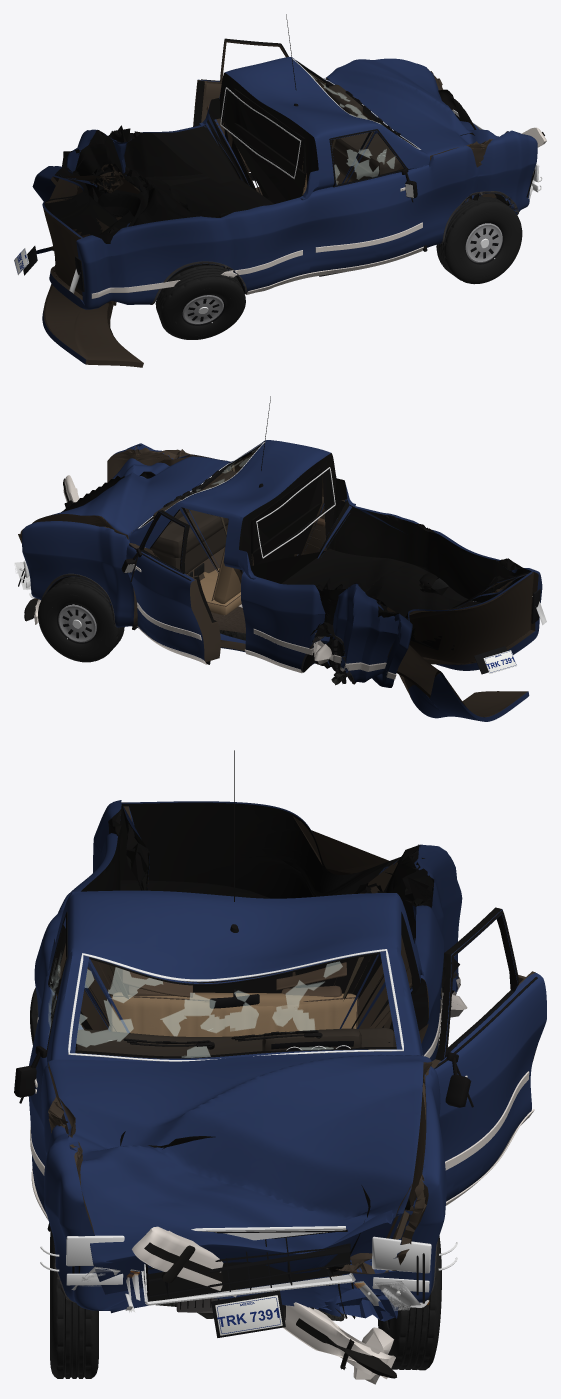
The model's file is pickup87_rear_corner_d3.glb.
3 views of the same model, one above another, from view 1: azimuth 30°, elevation 25°; view 2: azimuth 150°, elevation 25°; view 3: azimuth 270°, elevation 25° (orthographic). The views are drawn at different scales.
Visible parts, largest first — view 1: Body, Hood, Wheel_FR_mesh, Wheel_RR_mesh, Tailgate, Door_FR, Interior, Trim, Trim_FR, Door_FL, Glass, Ends (+1 smaller); view 2: Body, Door_FL, Hood, Wheel_FL_mesh, Interior, Tailgate, Trim, Ends, Trim_FL, Glass, Bumper_F, Door_FR (+1 smaller); view 3: Body, Hood, Interior, Ends, Door_FL, Glass, Bumper_F, Wheel_FR_mesh, Wheel_FL_mesh, Trim_FL, Trim, Door_FR (+1 smaller).
Part boxes in pixels (bbox=[...]): Body: bbox=[32, 57, 537, 309]; Hood: bbox=[325, 58, 499, 197]; Wheel_FR_mesh: bbox=[436, 196, 522, 284]; Wheel_RR_mesh: bbox=[155, 265, 245, 339]; Tailgate: bbox=[36, 217, 143, 367]; Door_FR: bbox=[312, 132, 426, 272]; Interior: bbox=[302, 84, 401, 194]; Trim: bbox=[91, 14, 518, 304]; Trim_FR: bbox=[312, 129, 423, 276]; Door_FL: bbox=[193, 38, 288, 171]; Glass: bbox=[220, 58, 420, 178]; Ends: bbox=[14, 109, 542, 293]; Body: bbox=[18, 440, 542, 687]; Door_FL: bbox=[126, 510, 220, 662]; Hood: bbox=[32, 456, 230, 539]; Wheel_FL_mesh: bbox=[38, 576, 124, 662]; Interior: bbox=[150, 471, 241, 615]; Tailgate: bbox=[396, 645, 529, 721]; Trim: bbox=[41, 396, 476, 684]; Ends: bbox=[15, 560, 546, 674]; Trim_FL: bbox=[121, 511, 210, 664]; Glass: bbox=[138, 442, 335, 558]; Bumper_F: bbox=[24, 475, 79, 624]; Door_FR: bbox=[296, 488, 344, 554]; Body: bbox=[28, 800, 462, 1321]; Hood: bbox=[48, 1054, 432, 1313]; Interior: bbox=[75, 962, 395, 1056]; Ends: bbox=[40, 1226, 457, 1337]; Door_FL: bbox=[431, 907, 546, 1201]; Glass: bbox=[68, 949, 403, 1061]; Bumper_F: bbox=[132, 1226, 396, 1384]; Wheel_FR_mesh: bbox=[50, 1229, 98, 1378]; Wheel_FL_mesh: bbox=[378, 1209, 441, 1370]; Trim_FL: bbox=[434, 910, 537, 1205]; Trim: bbox=[37, 750, 467, 1303]; Door_FR: bbox=[29, 911, 67, 1211].
Size of the model in its own units: 4.98 by 2.76 by 2.56.
Materials: 33 (5 with a texture image).
